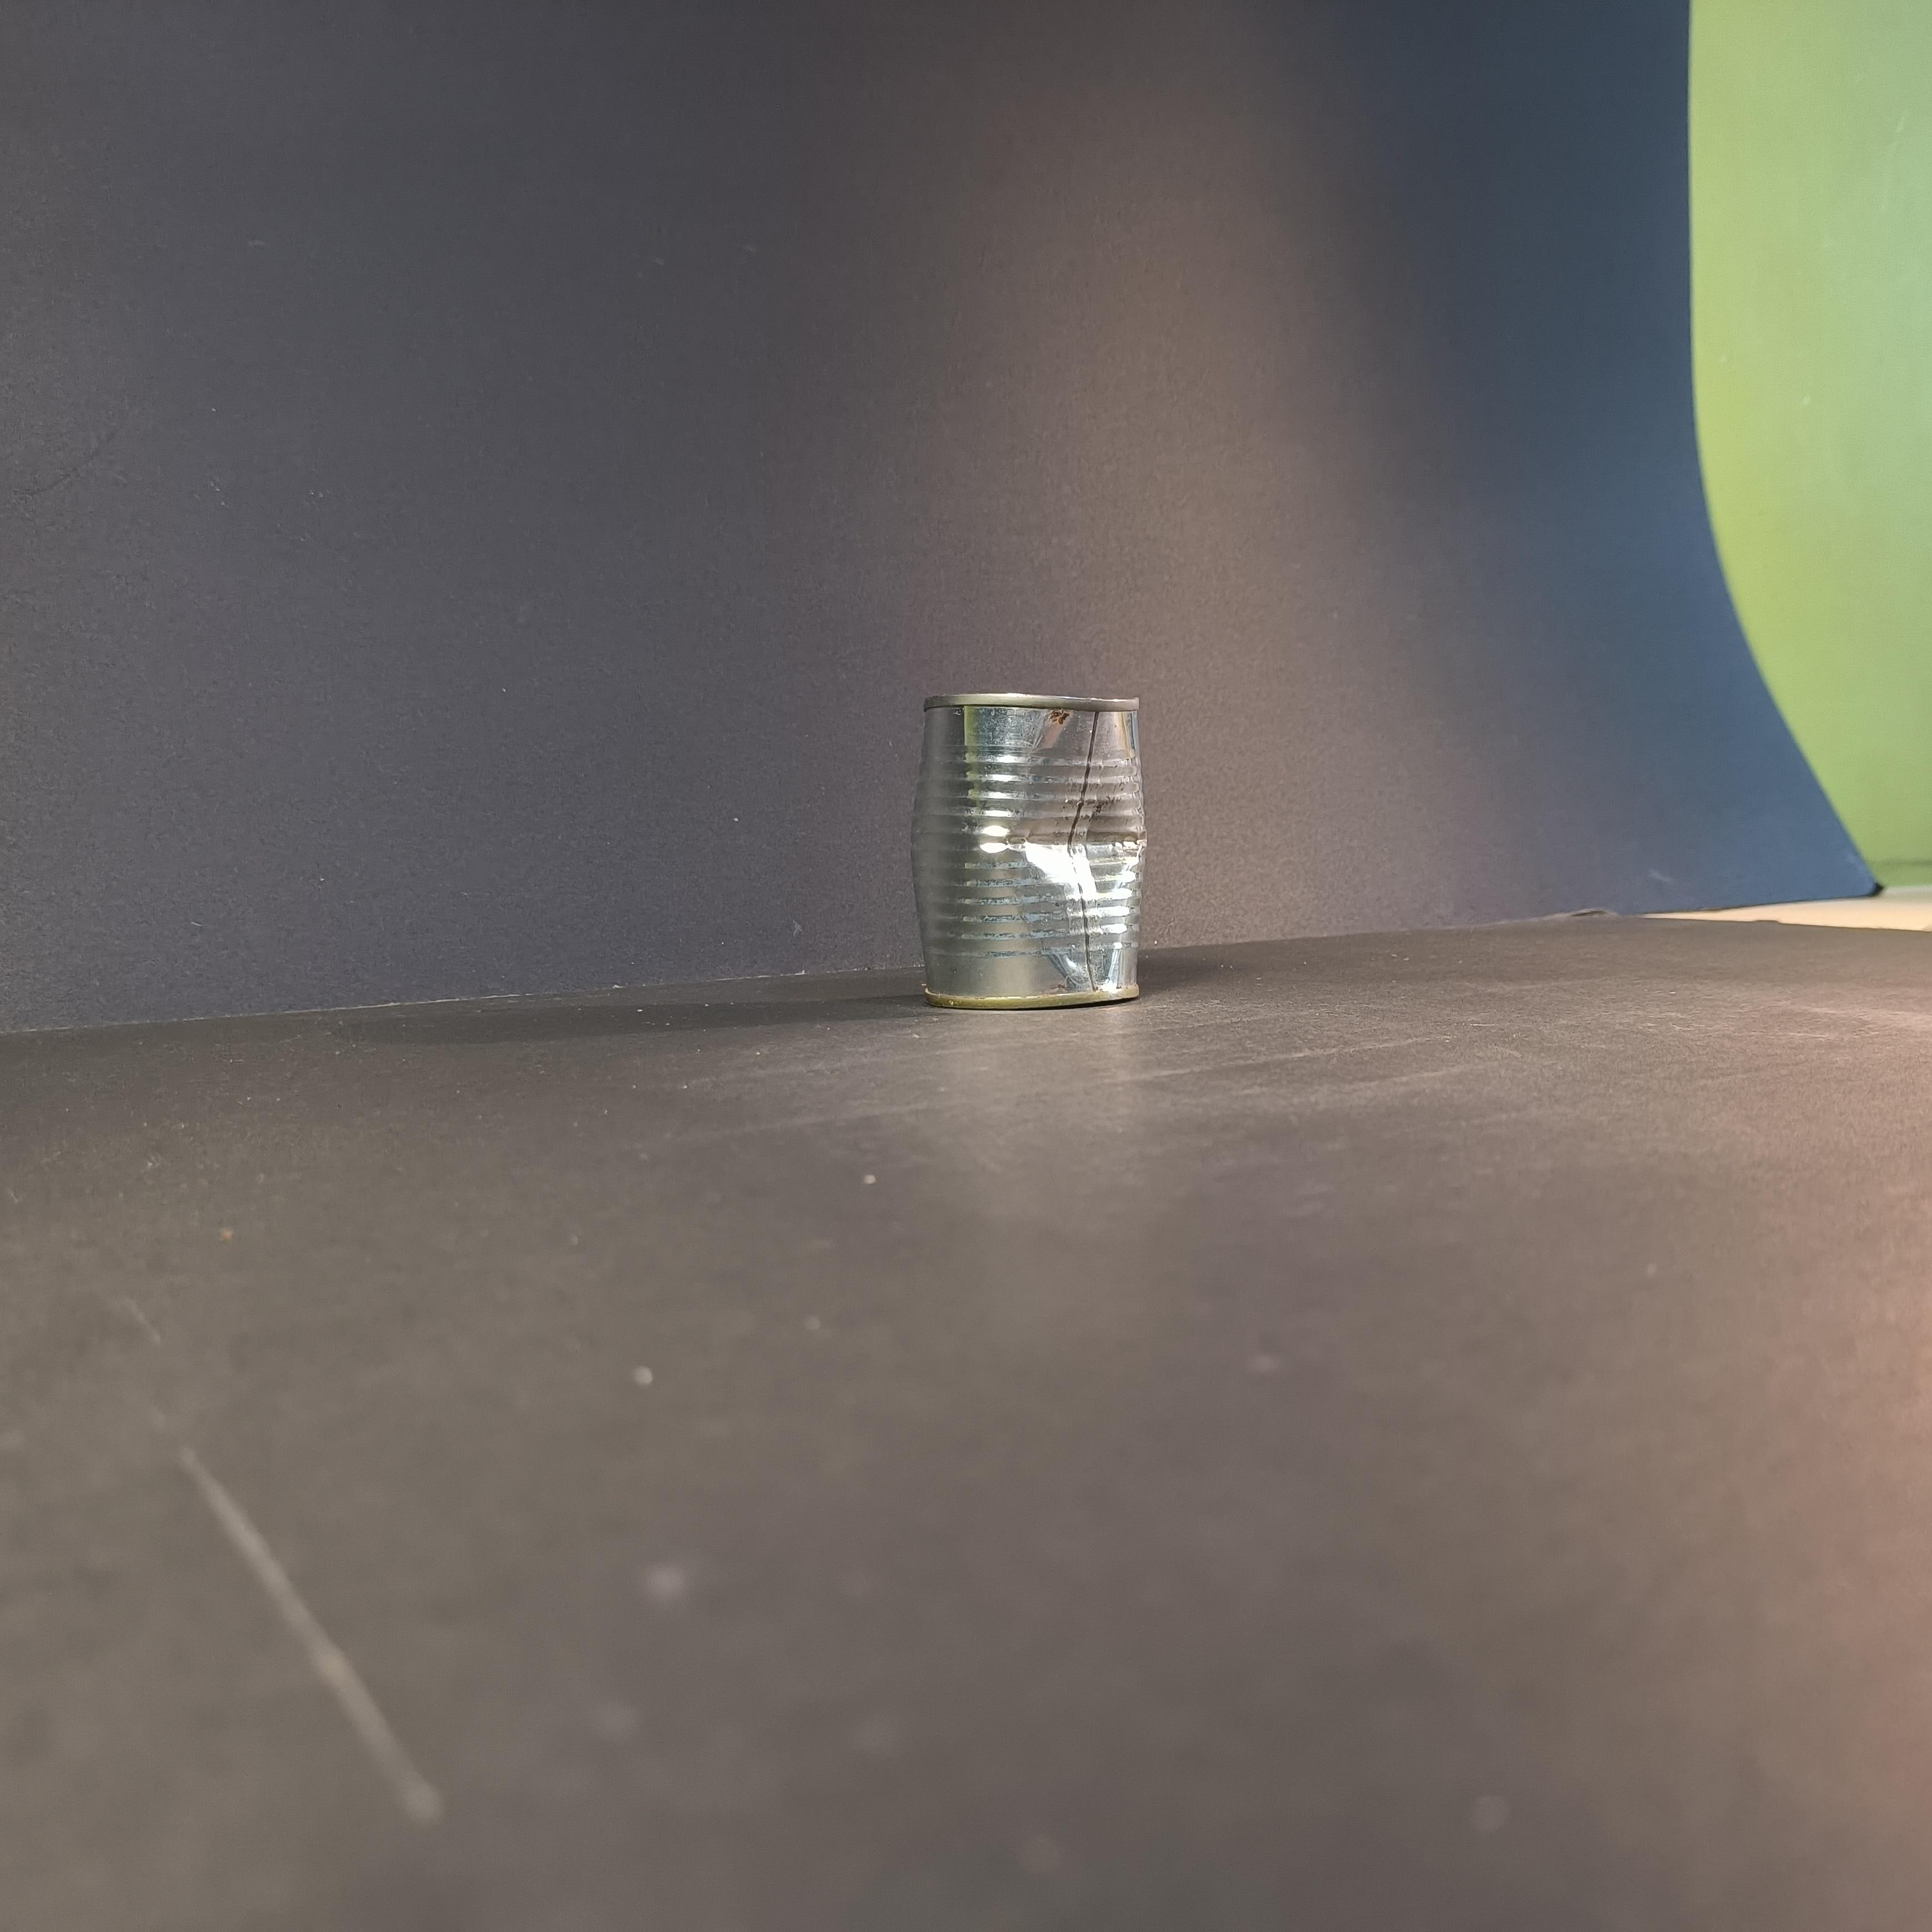Major Defect: (909, 694, 1150, 1010)
